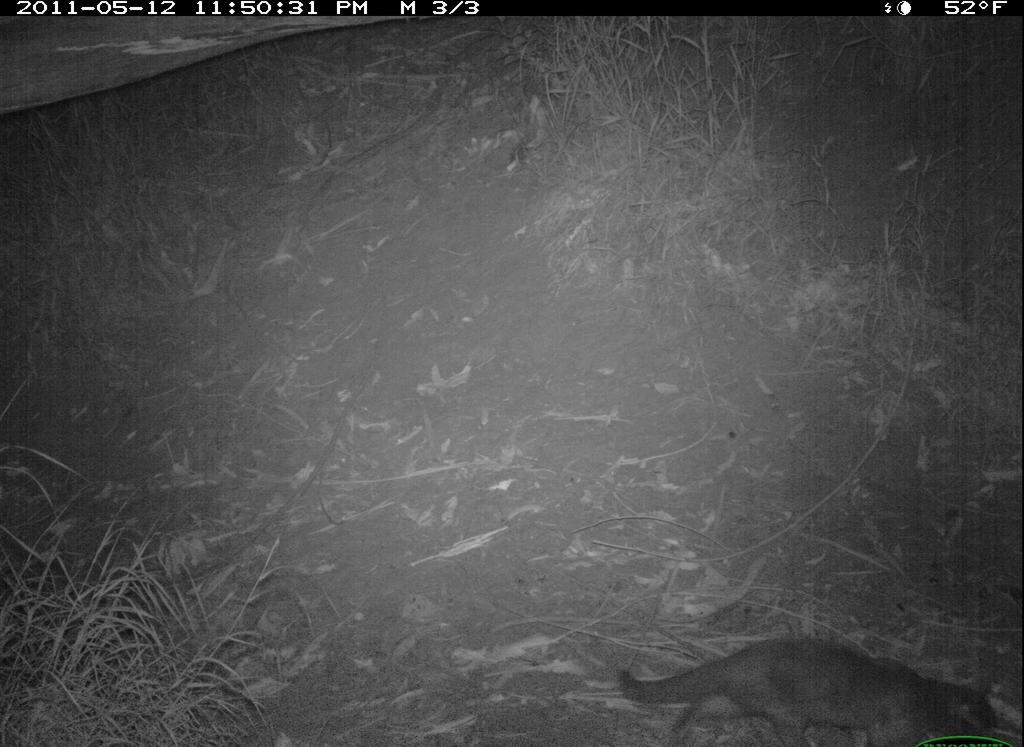cat: (601, 625, 1003, 747)
